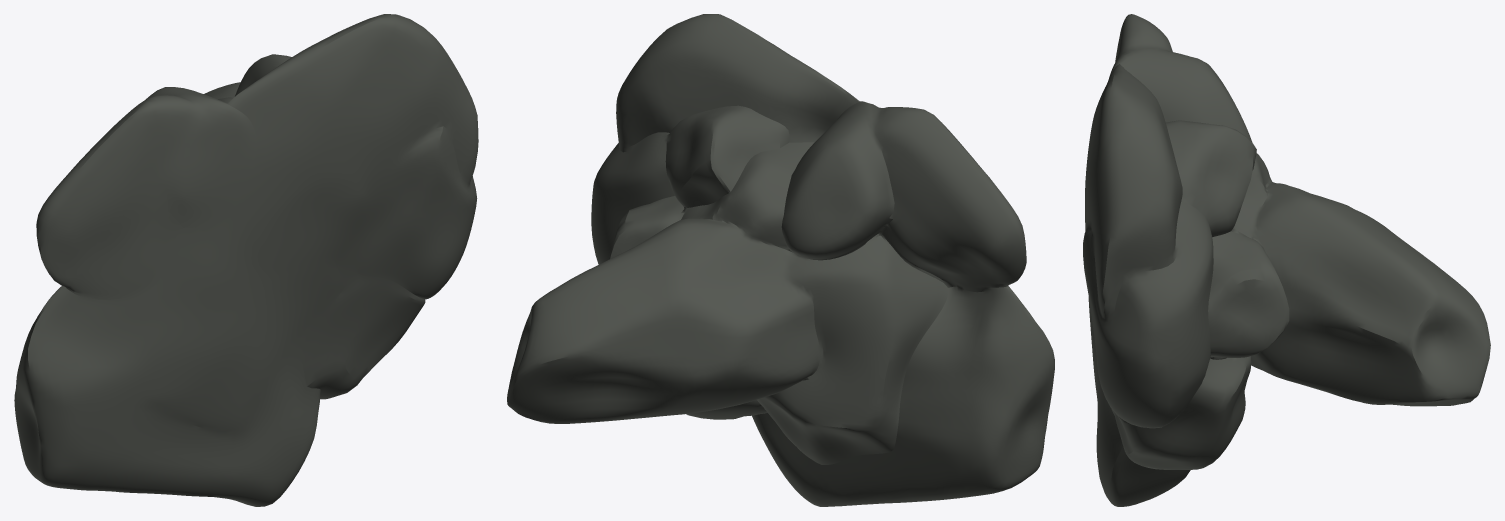
File: cliff3.obj
3 views of the same model, side by side, from view 1: azimuth 30°, elevation 25°; view 2: azimuth 150°, elevation 25°; view 3: azimuth 270°, elevation 25° (orthographic). The views are drawn at different scales.
Visible parts, largest first — view 1: Environment_Cliff4_mesh.002; view 2: Environment_Cliff4_mesh.002; view 3: Environment_Cliff4_mesh.002.
Boxes of the visible parts, x1=… form: Environment_Cliff4_mesh.002: x1=14, y1=14, x2=478, y2=506; Environment_Cliff4_mesh.002: x1=507, y1=14, x2=1054, y2=506; Environment_Cliff4_mesh.002: x1=1083, y1=14, x2=1490, y2=506.
Size of the model in its own units: 7.38 by 7.12 by 5.53.
1 material, 1 textured.
